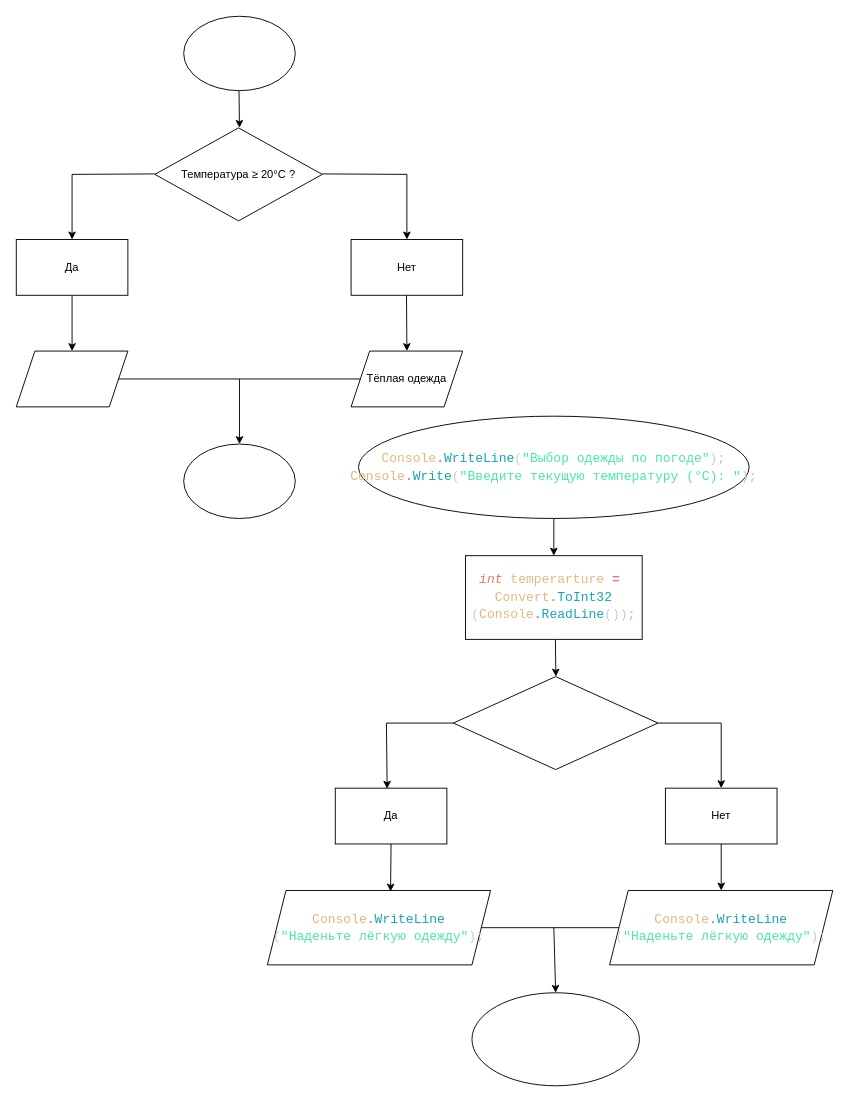
The diagram is 849 pixels wide and 1102 high, and some of its shapes have lost their labels. Here are the shapes that lost their labels. From the top down, the centre of each, then its label:
point 239,53: Начало
point 71,378: Лёгкая одежда
point 239,480: Конец
point 555,723: if ( temperarture >= 20 )
point 555,1039: Console . WriteLine ( "Хорошего дня! " ) ;
